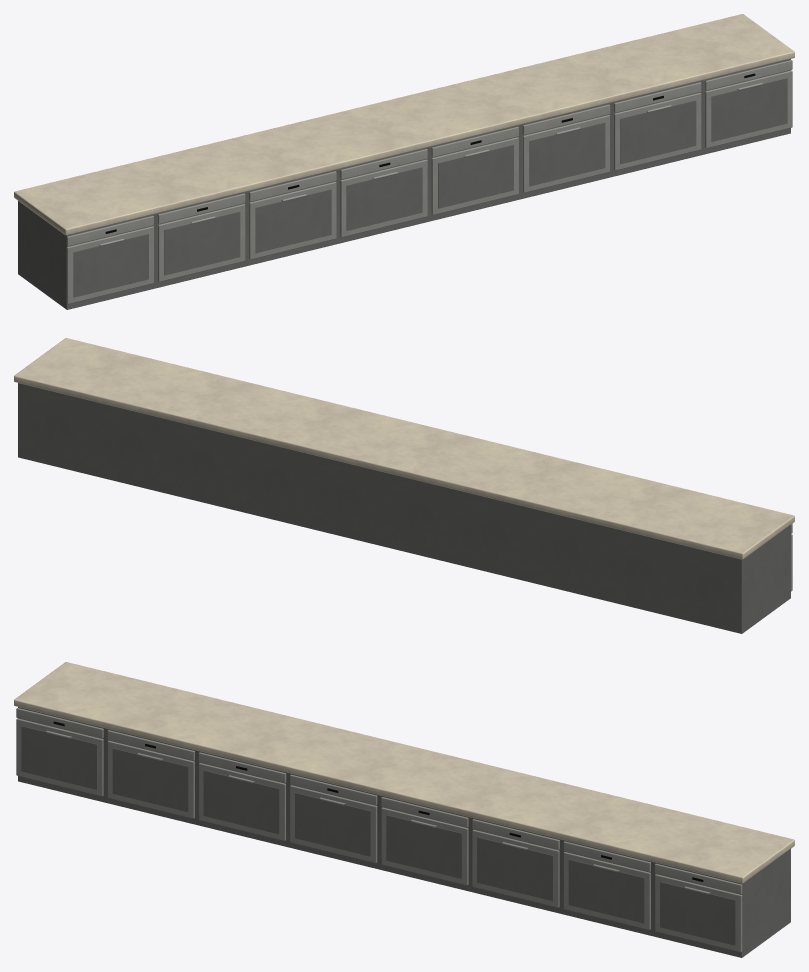
The model's file is PROP_Common_BackCounter_A.glb.
3 views of the same model, one above another, from view 1: azimuth 30°, elevation 25°; view 2: azimuth 150°, elevation 25°; view 3: azimuth 330°, elevation 25° (orthographic).
Parts seen in each view (by area): view 1: PROP_Common_BackCounter_A; view 2: PROP_Common_BackCounter_A; view 3: PROP_Common_BackCounter_A.
Boxes of the visible parts, x1=… form: PROP_Common_BackCounter_A: x1=14, y1=14, x2=794, y2=309; PROP_Common_BackCounter_A: x1=14, y1=338, x2=794, y2=633; PROP_Common_BackCounter_A: x1=14, y1=662, x2=794, y2=957.
Bounding box in the file's own units: 8.05 × 0.87 × 1.02.
Materials: 5 (5 with a texture image).
